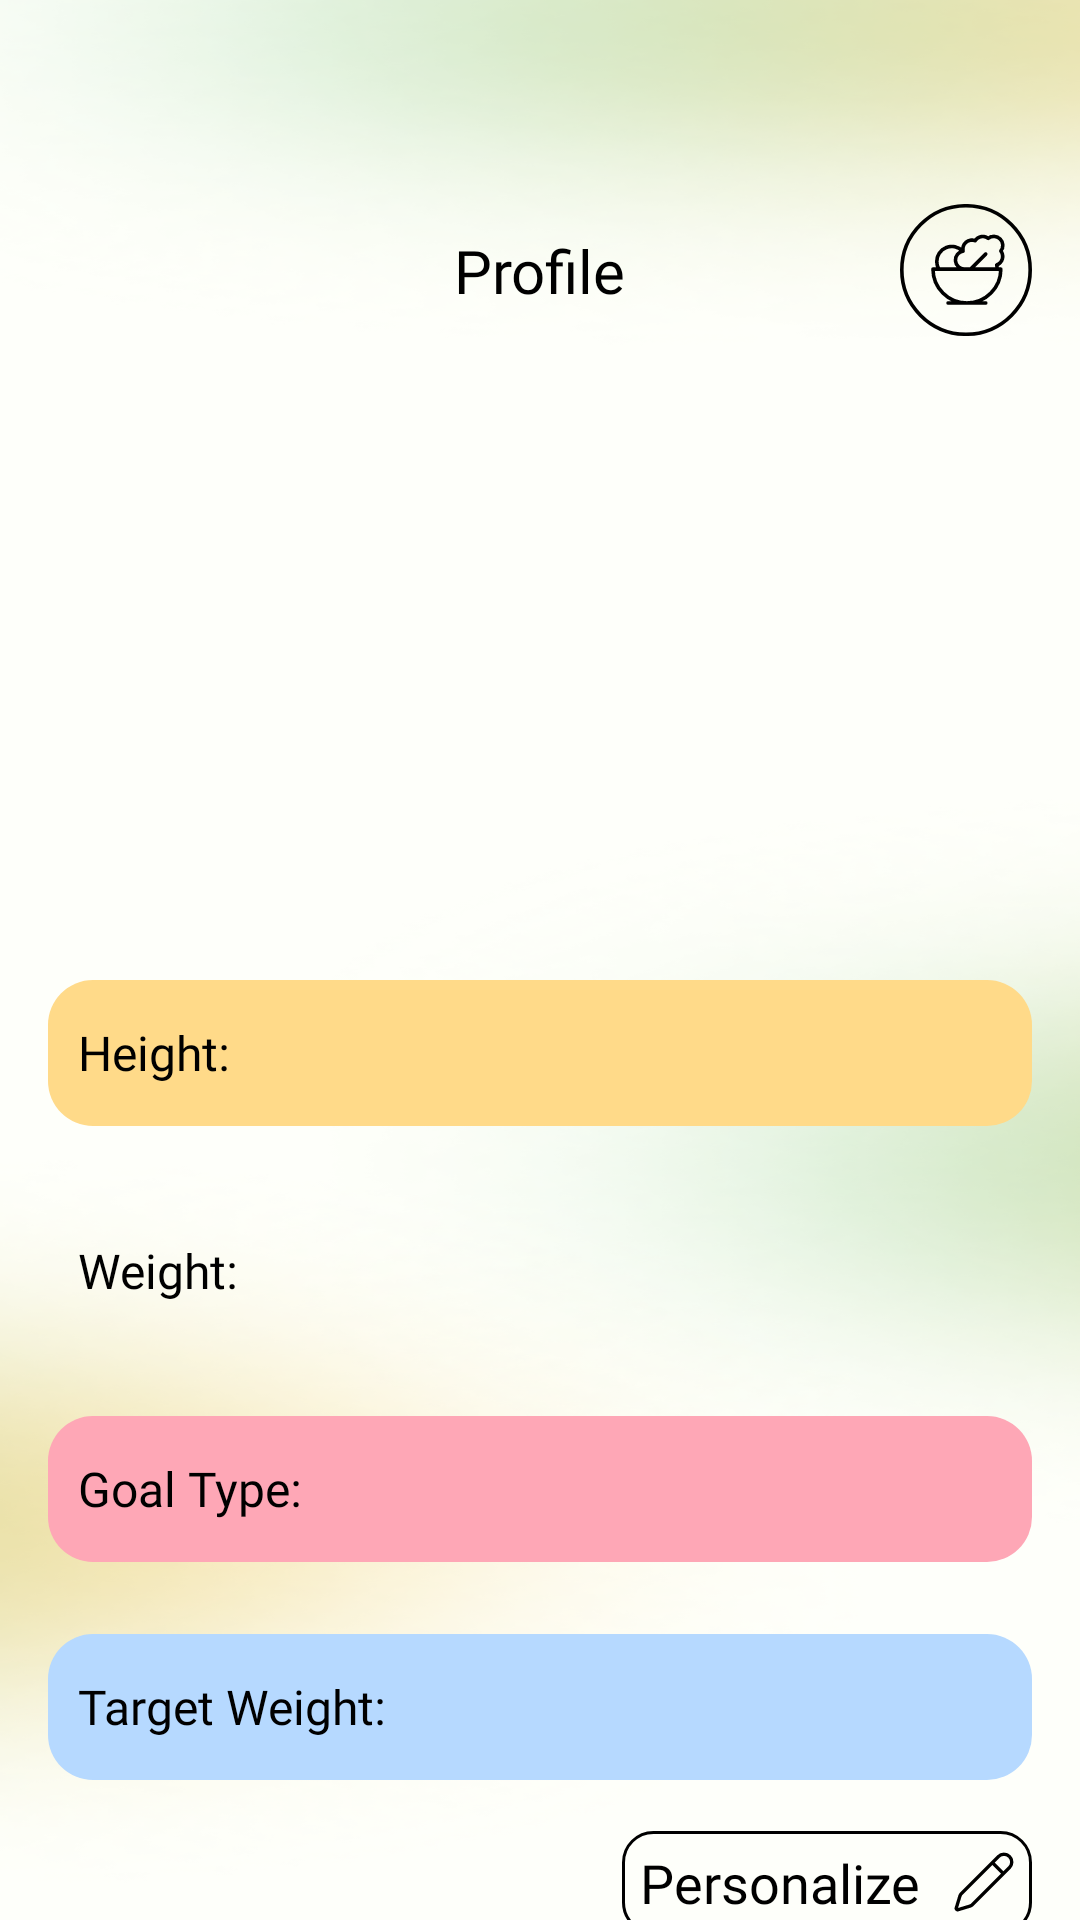

Where icons sit on this 1080 × 1920 app screen, as rect(x1, y1, x2, y2):
pen: rect(954, 1852, 1014, 1912)
